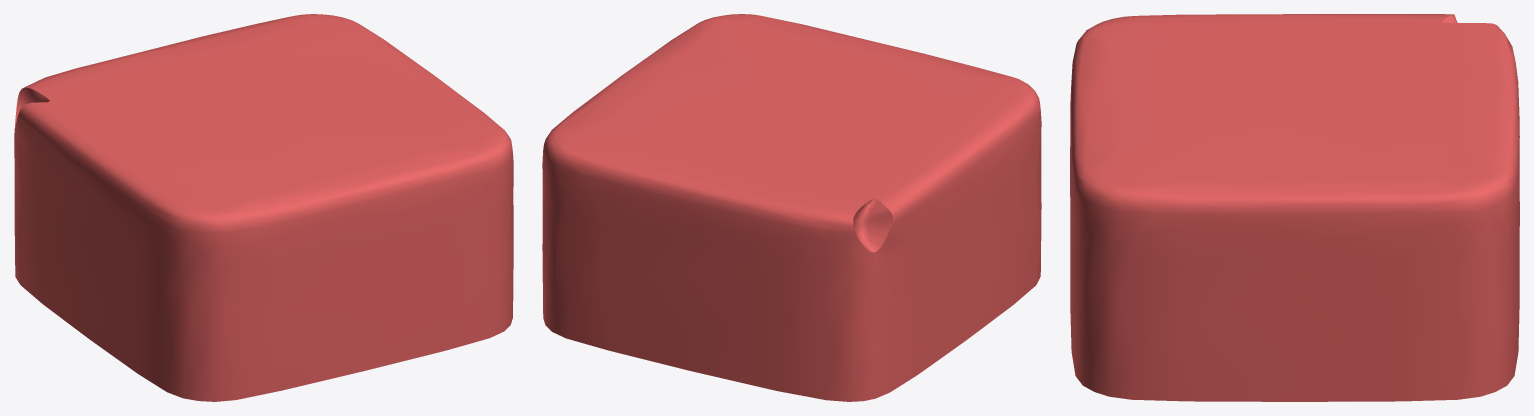
File: lavaDing_03.fbx
The picture shows the model from 3 angles, left to right: view 1: azimuth 30°, elevation 25°; view 2: azimuth 150°, elevation 25°; view 3: azimuth 270°, elevation 25°; orthographic projection. The views are drawn at different scales.
Parts seen in each view (by area): view 1: Cube.020; view 2: Cube.020; view 3: Cube.020.
Part boxes in pixels (bbox=[...]): Cube.020: bbox=[14, 14, 513, 401]; Cube.020: bbox=[542, 14, 1041, 401]; Cube.020: bbox=[1070, 14, 1519, 401].
Bounding box in the file's own units: 200 × 100 × 200.
